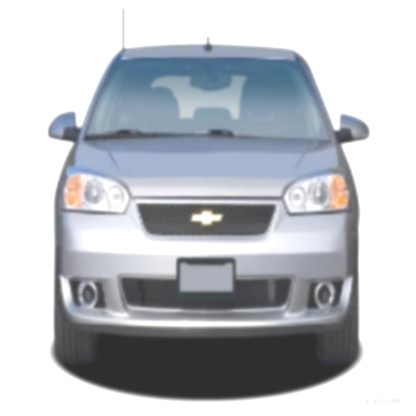Vehicle: (47, 8, 372, 370)
